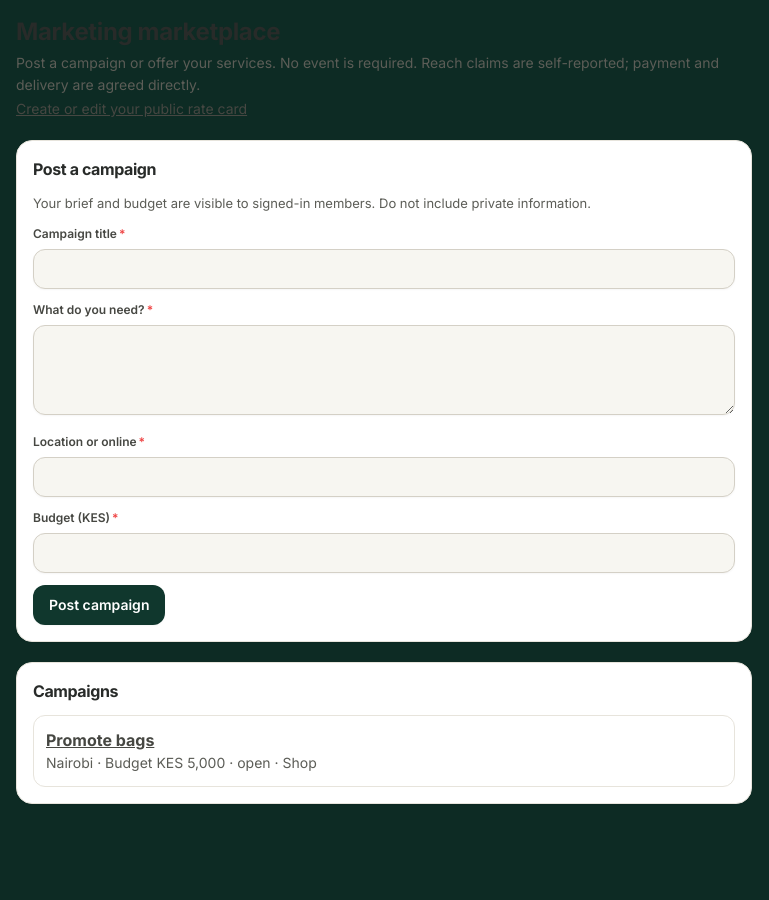
Scenario: marketing marketplace › allows a creator to review and submit a priced proposal
Later steps or results of the test are not shown.
What coordinates should you click on to do the following:
click the button "Promote bags"
I would click on:
 (100, 740)
Its box is [46,728,154,752].
(page scrolled)
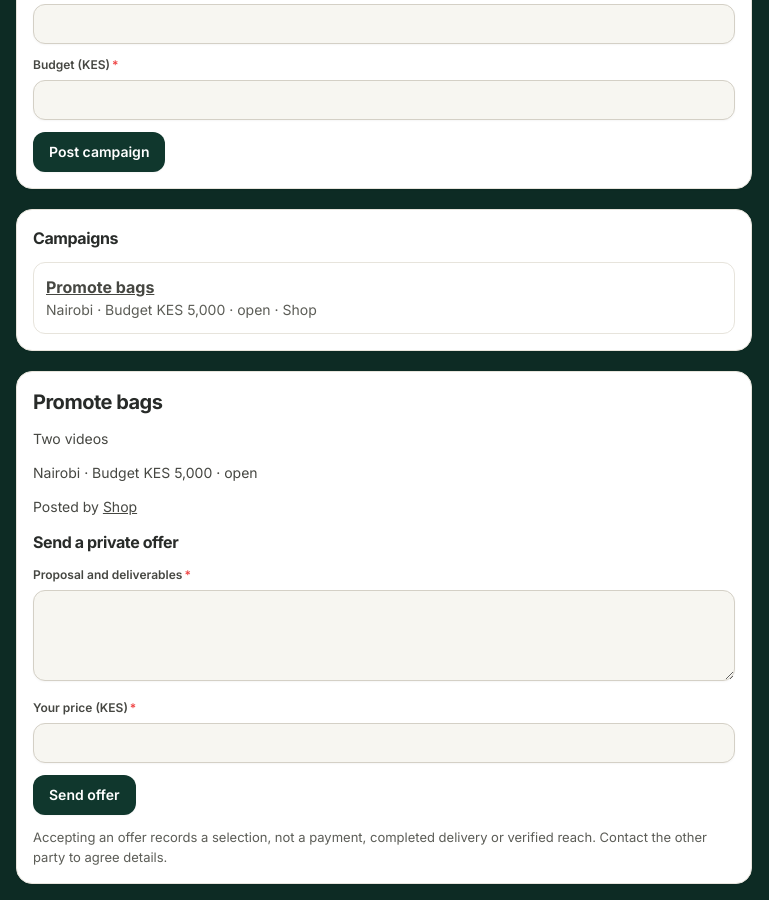
Expected: the text "Two videos" is shown, [33,430,108,447]
